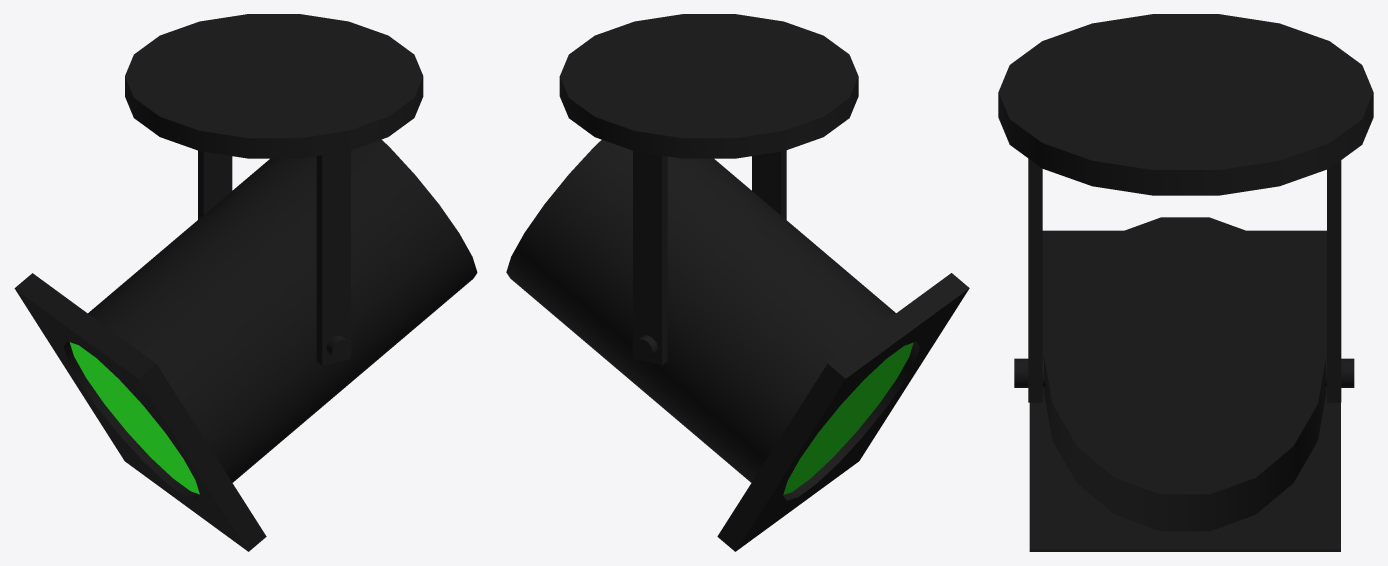
File: lightGREEN.obj
3 views of the same model, side by side, from view 1: azimuth 30°, elevation 25°; view 2: azimuth 150°, elevation 25°; view 3: azimuth 270°, elevation 25° (orthographic). The views are drawn at different scales.
Visible parts, largest first — view 1: Cylinder004, Cylinder005, Box017, Box016, Box018; view 2: Cylinder004, Cylinder005, Box017, Box016, Box018; view 3: Cylinder004, Cylinder005, Box017, Box016, Cylinder006.
Part boxes in pixels (bbox=[...]): Cylinder004: bbox=[88, 139, 477, 482]; Cylinder005: bbox=[125, 14, 423, 158]; Box017: bbox=[14, 273, 266, 551]; Box016: bbox=[198, 150, 350, 365]; Box018: bbox=[69, 342, 199, 494]; Cylinder004: bbox=[506, 140, 895, 482]; Cylinder005: bbox=[559, 14, 858, 158]; Box017: bbox=[717, 273, 969, 551]; Box016: bbox=[633, 150, 786, 365]; Box018: bbox=[783, 342, 913, 494]; Cylinder004: bbox=[1044, 217, 1326, 531]; Cylinder005: bbox=[998, 14, 1373, 195]; Box017: bbox=[1029, 230, 1340, 551]; Box016: bbox=[1028, 158, 1341, 402]; Cylinder006: bbox=[1014, 358, 1354, 387].
Bounding box in the file's own units: 0.6179 × 0.6443 × 0.4263.
